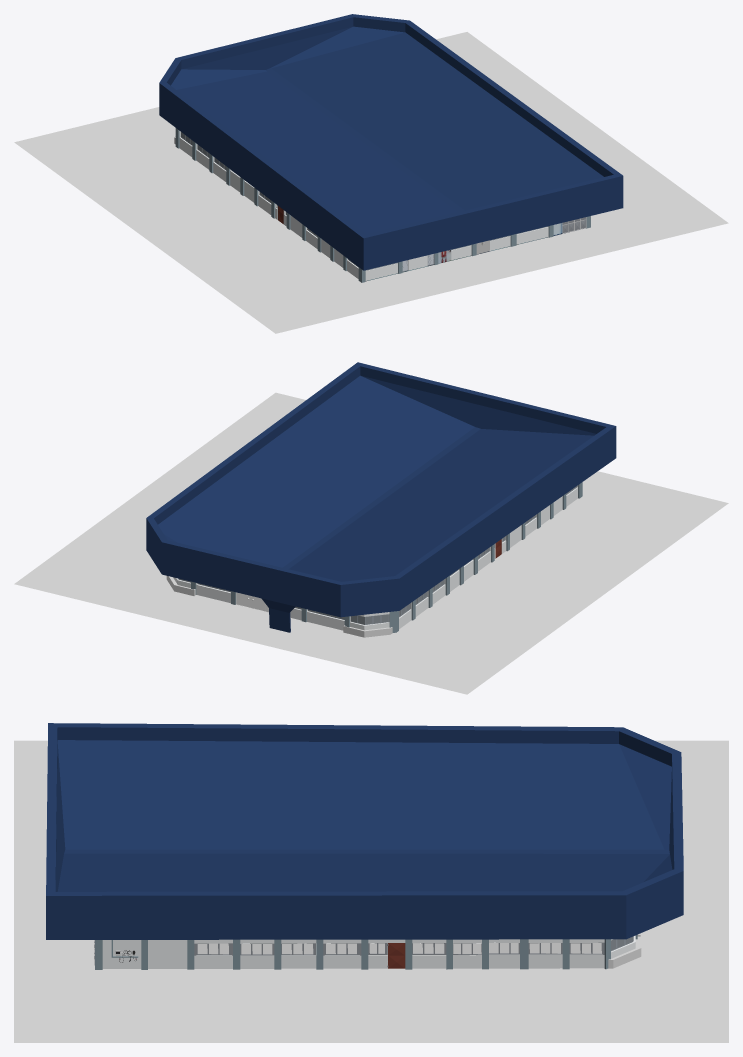
The model's file is FPFmdel.glb.
The picture shows the model from 3 angles, top to bottom: view 1: azimuth 30°, elevation 25°; view 2: azimuth 150°, elevation 25°; view 3: azimuth 270°, elevation 25°; orthographic projection. The views are drawn at different scales.
Parts seen in each view (by area): view 1: openspace.003, Plane.002, frente_lateral_exportar, openspace.002; view 2: openspace.003, Plane.002, frente_lateral_exportar, frente_para_exportar; view 3: openspace.003, Plane.002, lateral, frente_para_exportar.
Part boxes in pixels (x1,y1,x2,y2): openspace.003: [159, 14, 623, 270]; Plane.002: [14, 32, 728, 333]; frente_lateral_exportar: [175, 128, 361, 282]; openspace.002: [365, 223, 583, 281]; openspace.003: [146, 362, 616, 632]; Plane.002: [14, 392, 728, 694]; frente_lateral_exportar: [396, 482, 581, 632]; frente_para_exportar: [173, 577, 396, 632]; openspace.003: [46, 723, 683, 939]; Plane.002: [14, 740, 728, 1042]; lateral: [96, 939, 604, 969]; frente_para_exportar: [604, 934, 637, 969].
Bounding box in the file's own units: 4.23 × 0.551 × 4.23.
Materials: 50 (1 with a texture image).
